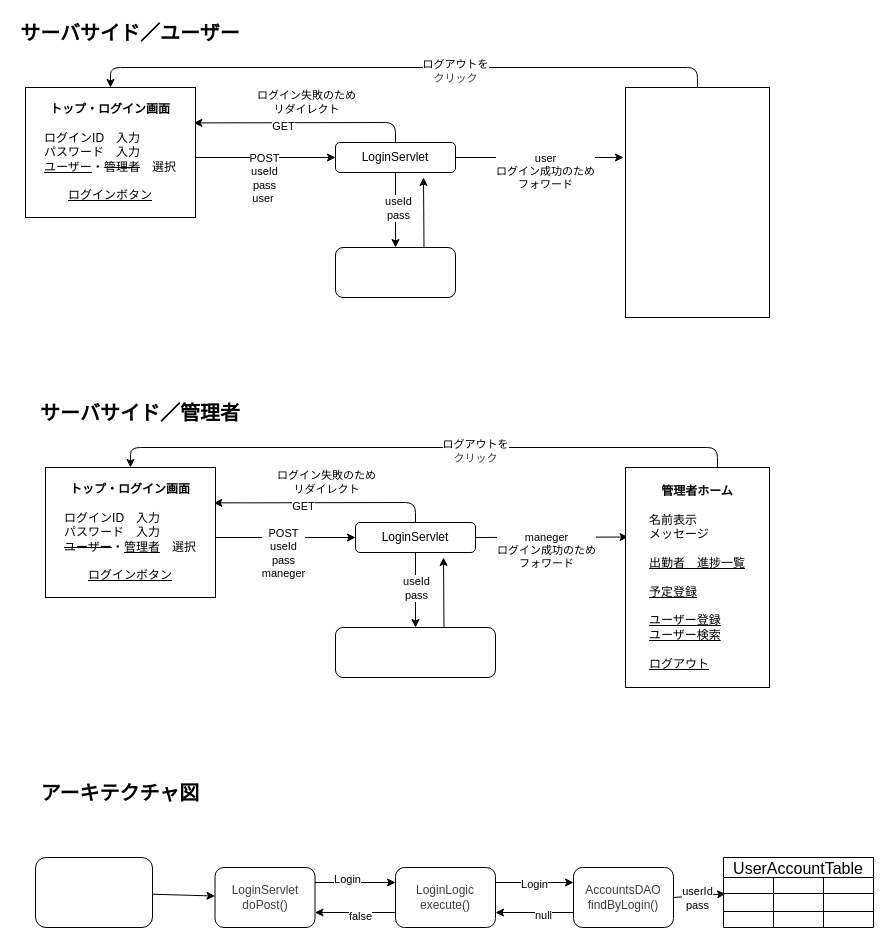
Image size: 891x945. Some labels were removed from this diagram. The shapes that lost their labels are listed below. From the top down, each one's centre as x and y in pixels, then its label:
At (697,202): "ユーザーホーム 名前表示 メッセージ 今日やること 今やること 今日の振り返り 明日の準備 今月の予定 振り返り ログアウト".
At (395,272): "DB USER_ACCOUNTS".
At (415,652): "DB MANEGER_ACCOUNTS".
At (93,892): "user OR maneger userId＝入力値 pass＝入力値".
